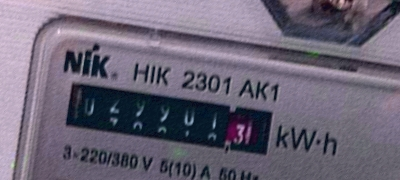0: (181, 103, 199, 129), (80, 94, 98, 118)
1: (207, 106, 223, 132)
2: (107, 92, 125, 116)
3: (231, 122, 249, 147)
9: (157, 101, 172, 125), (133, 96, 148, 119)
screen: (56, 74, 284, 168)
